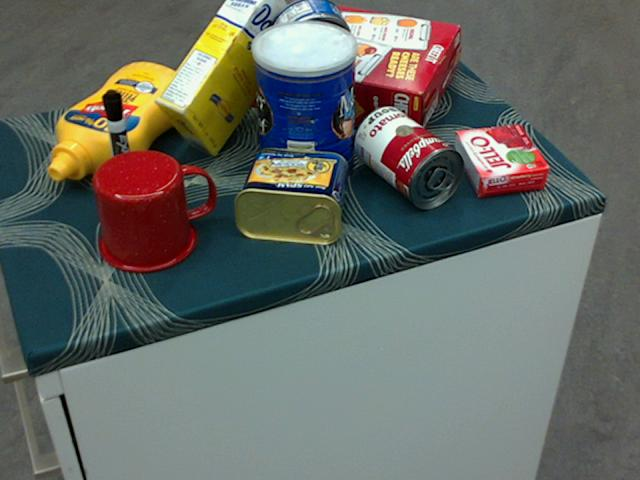cracker_box: (239, 0, 458, 140)
gelatin_box: (452, 125, 549, 196)
large_marker: (100, 90, 138, 200)
master_chef_can: (251, 20, 357, 191)
mug: (93, 148, 216, 272)
mustard_bottle: (47, 63, 193, 180)
potted_meat_can: (233, 147, 347, 244)
sugar_box: (154, 0, 300, 158)
tomato_soup_can: (354, 105, 464, 208)
tuna_fish_can: (267, 0, 351, 79)
